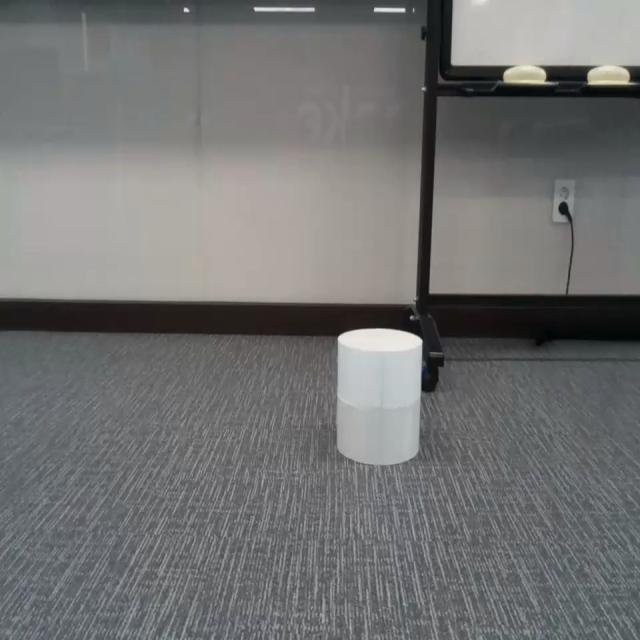cylinder: (336, 327, 424, 466)
